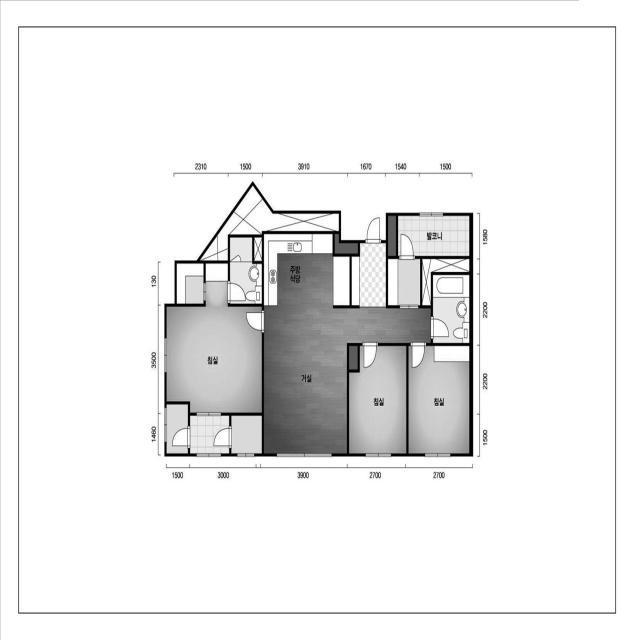background: (0, 0, 640, 640)
space_balconi: (398, 215, 470, 256), (190, 415, 230, 453)
space_bedroom: (166, 306, 263, 413), (408, 345, 470, 454), (349, 346, 407, 455)
space_dressroom: (176, 263, 228, 306)
space_front: (352, 243, 386, 307)
space_kitchen: (264, 234, 350, 309)
space_living_room: (264, 308, 431, 454)
space_other: (200, 185, 339, 261), (422, 259, 469, 306), (388, 259, 420, 306), (231, 415, 263, 454), (166, 404, 188, 454), (334, 234, 358, 254), (388, 216, 396, 256), (349, 346, 358, 370), (254, 237, 262, 261)
space_toilet: (433, 275, 470, 343), (230, 237, 262, 305)
